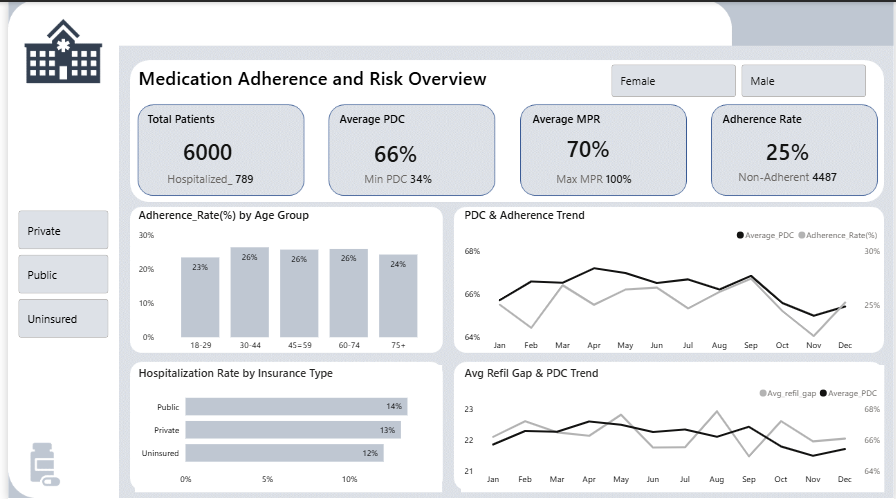

The page's visual inventory and layout, read from the dashboard file:
{"tool":"powerbi","page":{"name":"Page 1","canvas":[1280,720],"ordinal":0},"visuals":[{"type":"lineChart","title":"PDC & Adherence Trend","fields":{"Y":["medication_adherence.Average_PDC"],"Y2":["medication_adherence.Adherence_Rate(%)"],"Category":["Month_Lookup.Observation_Month"]},"box":[654.9,296.4,611.6,218.3],"z":0},{"type":"advancedSlicerVisual","fields":{"Values":["medication_adherence.Sex"]},"box":[867.5,85.3,378.8,57.8],"z":1000},{"type":"advancedSlicerVisual","fields":{"Values":["medication_adherence.Insurance_Type"]},"box":[10.1,296.4,140.2,196.6],"z":2000},{"type":"cardVisual","title":"Total Patients","fields":{"Data":["CountNonNull(medication_adherence.Patient_ID)"]},"box":[224.1,153.3,199.5,120],"z":3000},{"type":"cardVisual","title":"Adherence Rate","fields":{"Data":["medication_adherence.Adherence_Rate(%)"]},"box":[1067,169.2,140.2,89.6],"z":4000},{"type":"cardVisual","title":"Average PDC","fields":{"Data":["medication_adherence.Average_PDC"]},"box":[500.2,170.6,127.2,94],"z":5000},{"type":"clusteredColumnChart","fields":{"Y":["medication_adherence.Adherence_Rate(%)"],"Category":["medication_adherence.Age Group"]},"box":[183.6,296.4,443.9,218.3],"z":6000},{"type":"cardVisual","title":"Average MPR","fields":{"Data":["medication_adherence.Average_MPR"]},"box":[779.3,160.5,144.6,99.8],"z":7000},{"type":"lineChart","title":"Avg Refil Gap & PDC Trend","fields":{"Y":["medication_adherence.Average_Refil_Gap"],"Y2":["medication_adherence.Average_PDC"],"Category":["Month_Lookup.Observation_Month"]},"box":[654.9,524.8,611.6,183.6],"z":8000},{"type":"barChart","title":"Hospitalization Rate by Insurance Type","fields":{"Y":["medication_adherence.Hospitalization_Rate"],"Category":["medication_adherence.Insurance_Type"]},"box":[183.6,524.8,443.9,183.6],"z":9000},{"type":"textbox","box":[183.1,84.6,524.6,58.5],"z":10000},{"type":"cardVisual","fields":{"Data":["medication_adherence.Hospitalized_"]},"box":[189.4,146,234.2,150.4],"z":11000},{"type":"textbox","box":[196.6,153.3,138.8,33.3],"z":12000},{"type":"cardVisual","fields":{"Data":["medication_adherence.Min PDC"]},"box":[474.2,146,201,150.4],"z":13000},{"type":"textbox","box":[474.2,153.3,141.7,33.3],"z":14000},{"type":"textbox","box":[753.3,153.3,134.5,33.3],"z":15000},{"type":"cardVisual","fields":{"Data":["medication_adherence.Max MPR"]},"box":[751.8,146,231.3,150.4],"z":16000},{"type":"textbox","box":[1028,153.3,140.2,33.3],"z":17000},{"type":"cardVisual","fields":{"Data":["medication_adherence.Non-Adherent"]},"box":[1014.9,143.1,264.6,150.4],"z":18000}]}

Visuals, with their boxes in screenshot pixels (x1, y1, x2, y2), scaled from the page's 1280x720 canvas onto the 896x499 screenshot:
"PDC & Adherence Trend" lineChart: bbox(458, 205, 887, 357)
advancedSlicerVisual - medication_adherence.Sex: bbox(607, 59, 872, 99)
advancedSlicerVisual - medication_adherence.Insurance_Type: bbox(7, 205, 105, 342)
"Total Patients" cardVisual: bbox(157, 106, 297, 189)
"Adherence Rate" cardVisual: bbox(747, 117, 845, 179)
"Average PDC" cardVisual: bbox(350, 118, 439, 183)
clusteredColumnChart - medication_adherence.Adherence_Rate(%) x medication_adherence.Age Group: bbox(129, 205, 439, 357)
"Average MPR" cardVisual: bbox(546, 111, 647, 180)
"Avg Refil Gap & PDC Trend" lineChart: bbox(458, 364, 887, 491)
"Hospitalization Rate by Insurance Type" barChart: bbox(129, 364, 439, 491)
textbox: bbox(128, 59, 495, 99)
cardVisual - medication_adherence.Hospitalized_: bbox(133, 101, 297, 205)
textbox: bbox(138, 106, 235, 129)
cardVisual - medication_adherence.Min PDC: bbox(332, 101, 473, 205)
textbox: bbox(332, 106, 431, 129)
textbox: bbox(527, 106, 621, 129)
cardVisual - medication_adherence.Max MPR: bbox(526, 101, 688, 205)
textbox: bbox(720, 106, 818, 129)
cardVisual - medication_adherence.Non-Adherent: bbox(710, 99, 895, 203)
